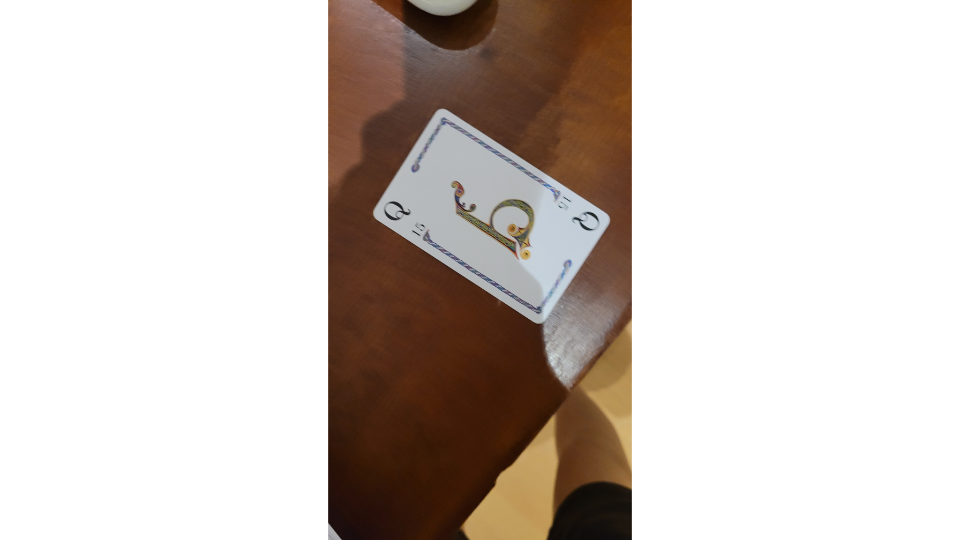Q: (370, 107, 615, 328)
